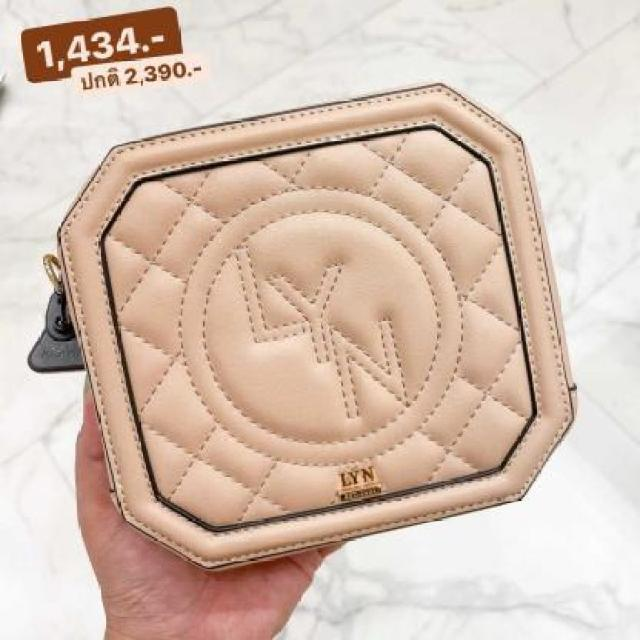Bag: (16, 69, 606, 586)
